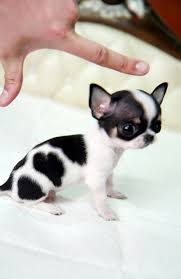chihuahua: (1, 79, 181, 223)
